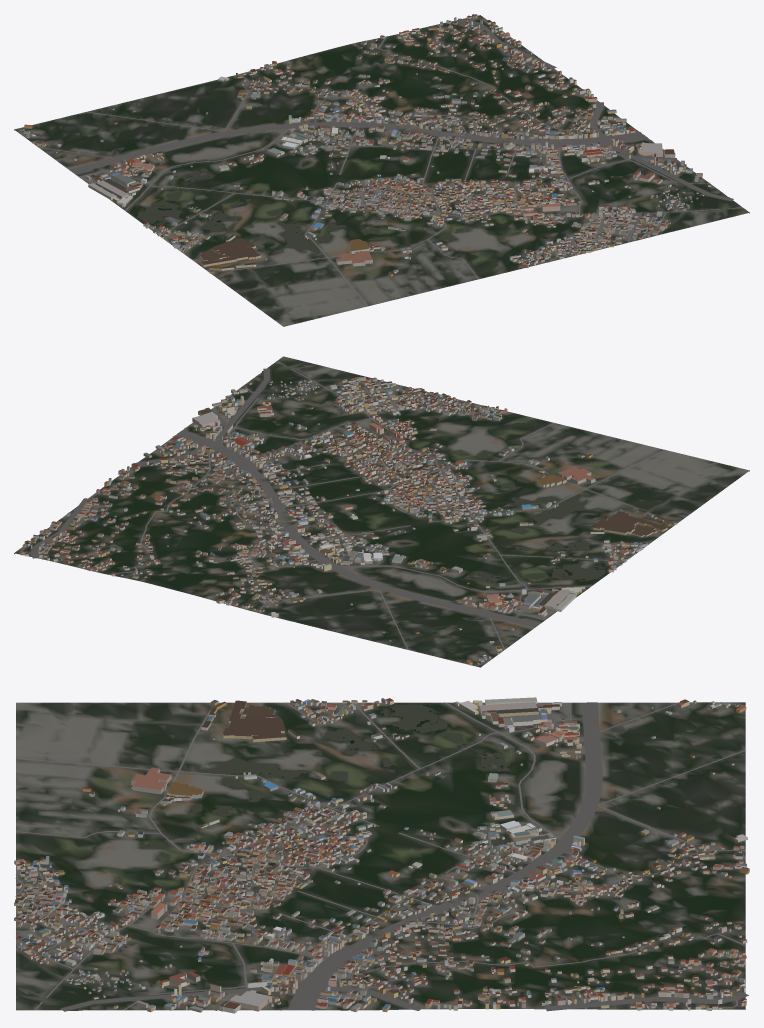
The picture shows the model from 3 angles, top to bottom: view 1: azimuth 30°, elevation 25°; view 2: azimuth 150°, elevation 25°; view 3: azimuth 270°, elevation 25°; orthographic projection. The views are drawn at different scales.
Parts seen in each view (by area): view 1: ground, buildings, roads, water; view 2: ground, buildings, roads, water; view 3: ground, buildings, roads, water.
Part boxes in pixels (box(x1,y1,x2,y2)): ground: box(14, 15, 749, 326); buildings: box(21, 14, 711, 276); roads: box(19, 18, 742, 306); water: box(137, 136, 729, 254); ground: box(14, 356, 749, 667); buildings: box(20, 377, 677, 665); roads: box(22, 361, 673, 666); water: box(224, 371, 605, 591); ground: box(16, 702, 745, 1010); buildings: box(14, 697, 749, 1013); roads: box(15, 702, 748, 1011); water: box(71, 704, 562, 1010).
Bounding box in the file's own units: 1424 × 30.71 × 1414.
